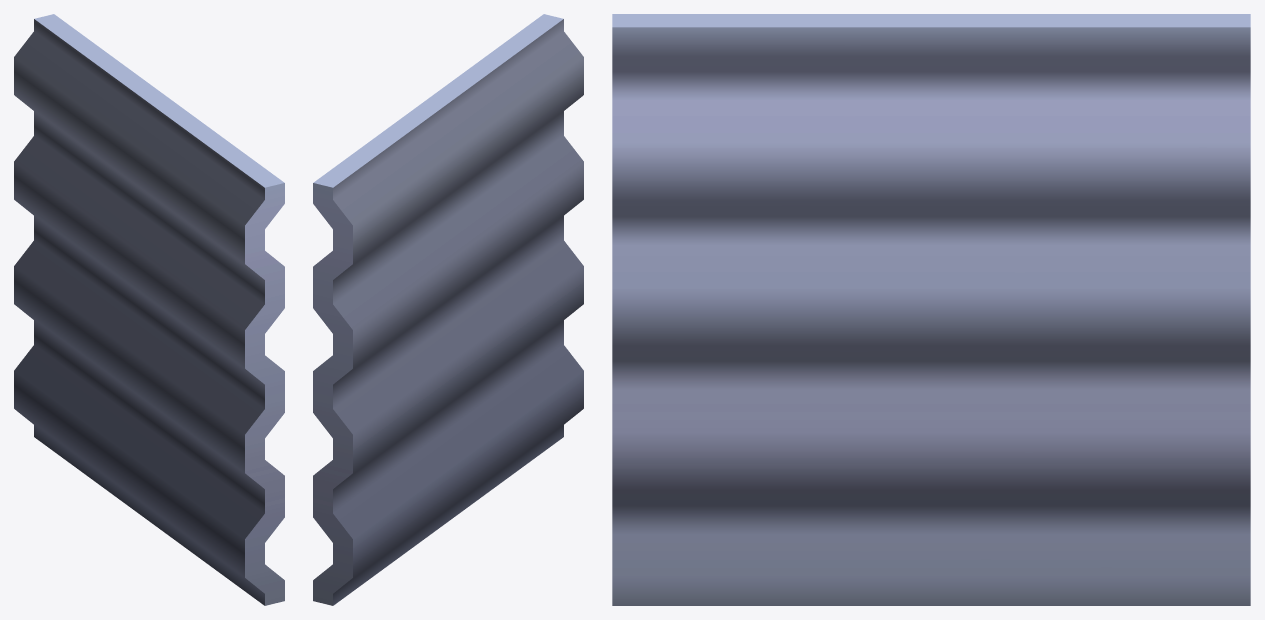
Rendered from plating.optimized.glb.
3 views of the same model, side by side, from view 1: azimuth 30°, elevation 25°; view 2: azimuth 150°, elevation 25°; view 3: azimuth 270°, elevation 25° (orthographic). The views are drawn at different scales.
Visible parts, largest first — view 1: plating; view 2: plating; view 3: plating.
Part boxes in pixels (x1,y1,x2,y2): plating: [14, 14, 284, 605]; plating: [313, 14, 583, 605]; plating: [612, 14, 1250, 605].
Bounding box in the file's own units: 0.1 × 1 × 1.
1 material, 1 textured.
